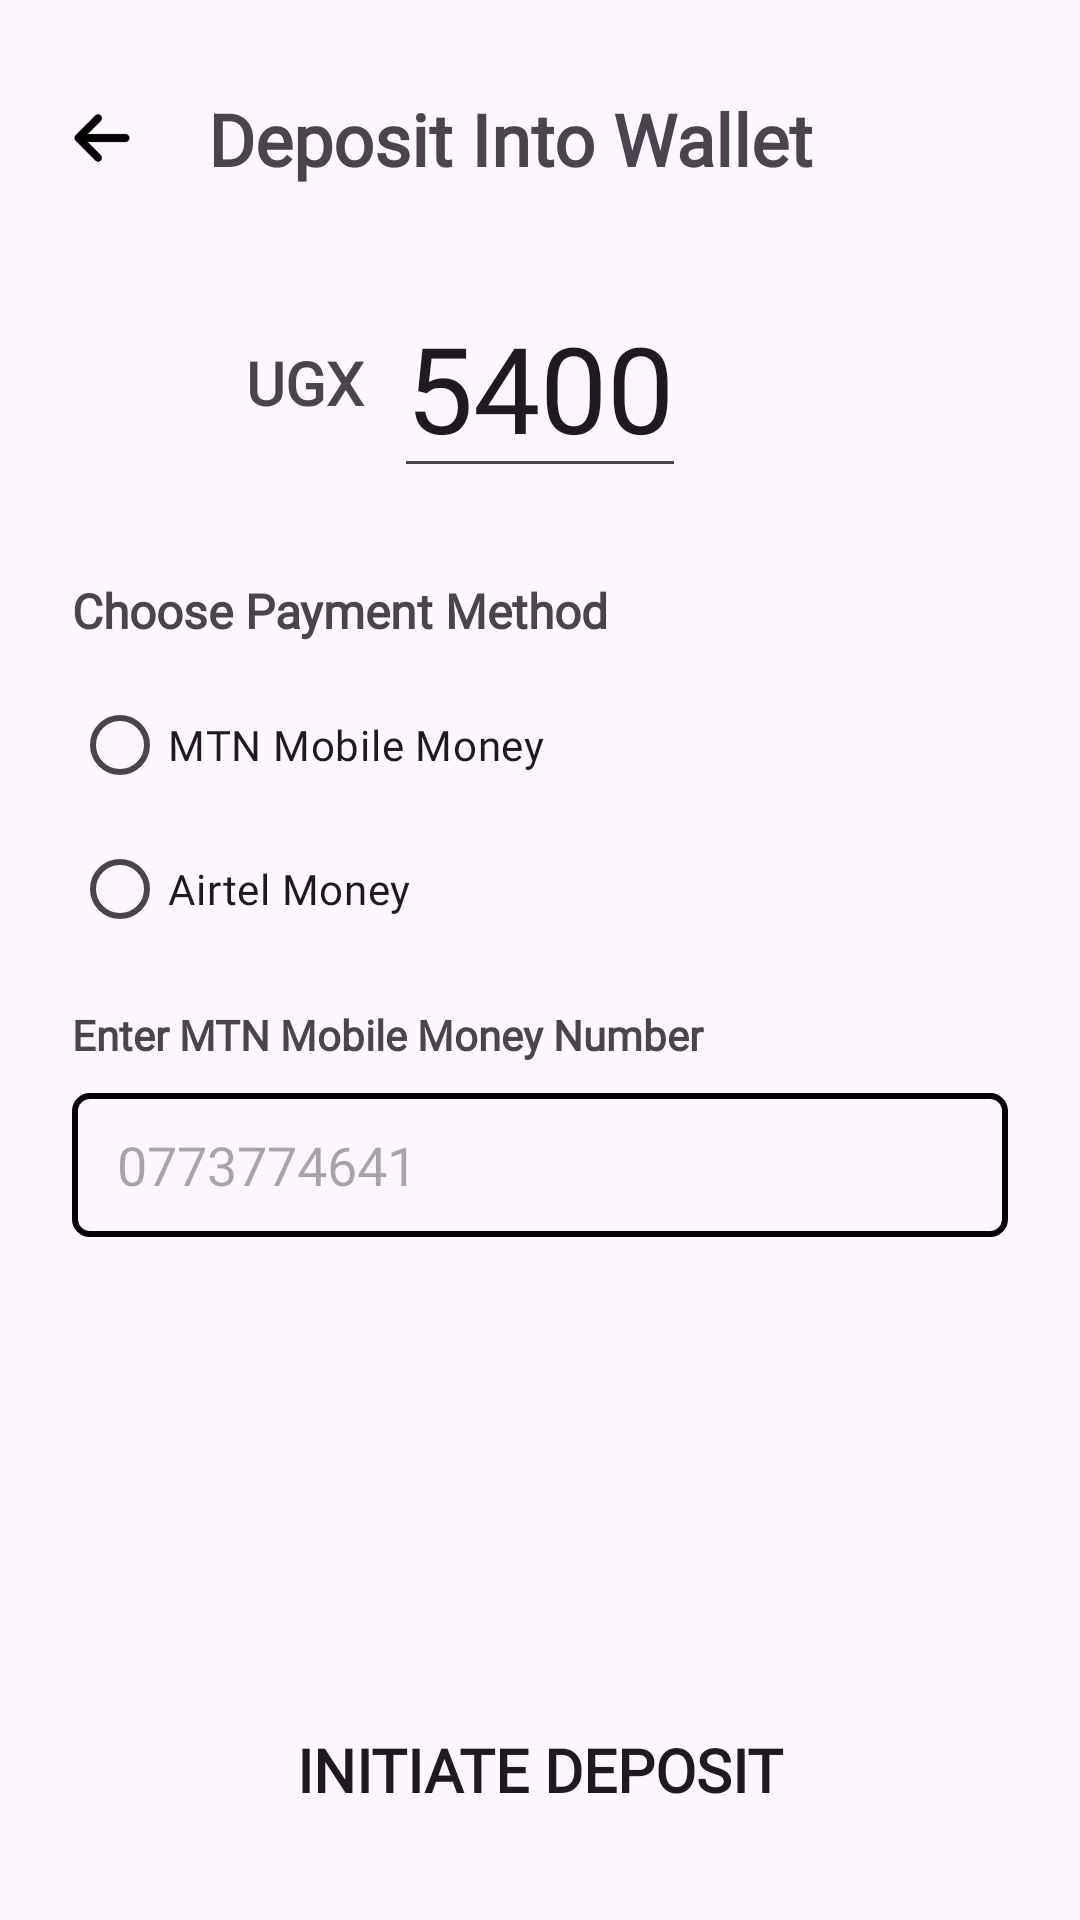

Icons on this 1080x1920 Android screen, each with the point to tap as (x=x, y=y):
back arrow: (x=102, y=138)
